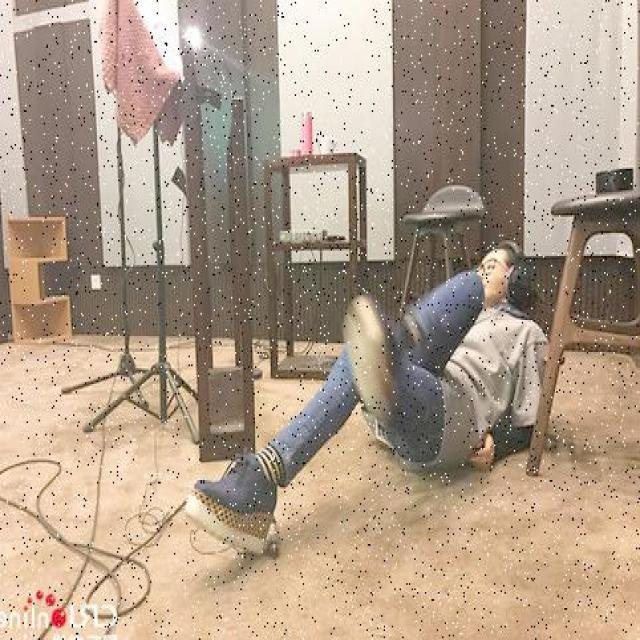fall: (231, 248, 542, 524)
